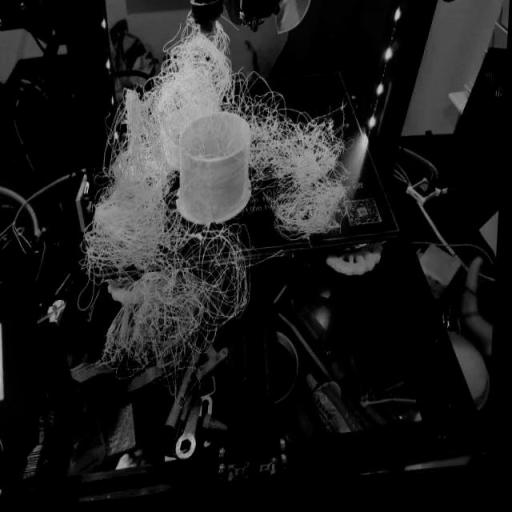spaghetti_and_stringing: (102, 232, 260, 418), (74, 117, 179, 302), (253, 101, 359, 251), (126, 12, 252, 126)
